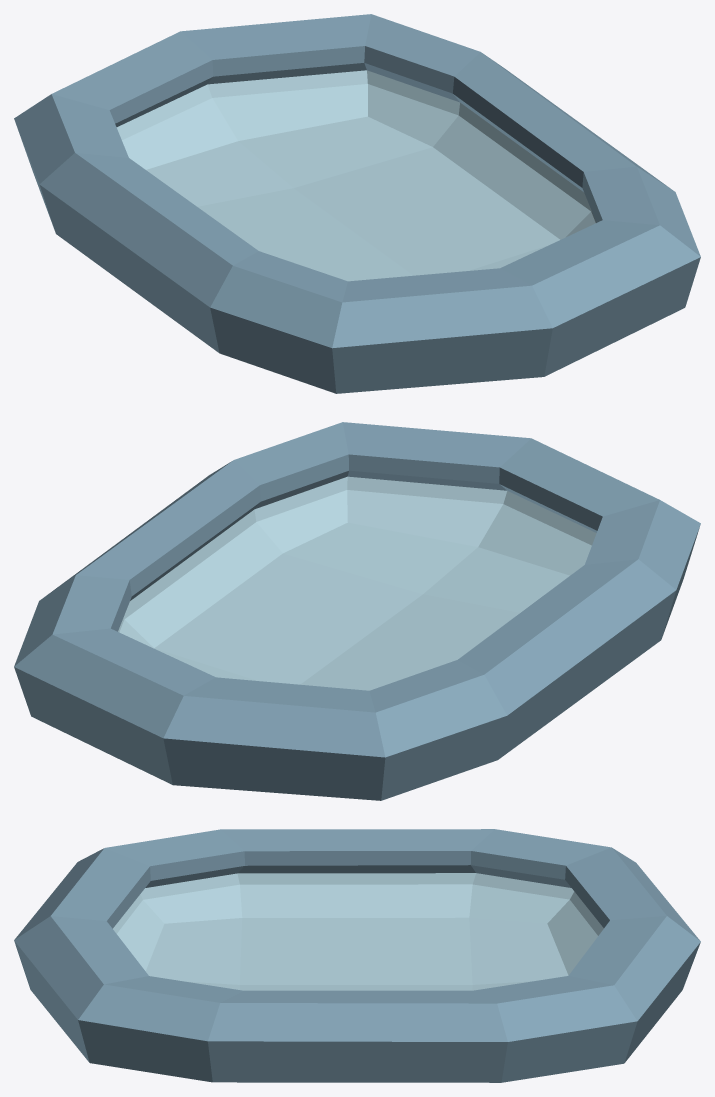
The model's file is DogBed_1.fbx.
The picture shows the model from 3 angles, top to bottom: view 1: azimuth 30°, elevation 25°; view 2: azimuth 150°, elevation 25°; view 3: azimuth 270°, elevation 25°; orthographic projection. The views are drawn at different scales.
Parts seen in each view (by area): view 1: DogBed_1; view 2: DogBed_1; view 3: DogBed_1.
Part boxes in pixels (x1,y1,x2,y2): DogBed_1: [14, 14, 700, 393]; DogBed_1: [14, 422, 700, 800]; DogBed_1: [14, 829, 700, 1082].
Bounding box in the file's own units: 92.08 × 133 × 23.45.
